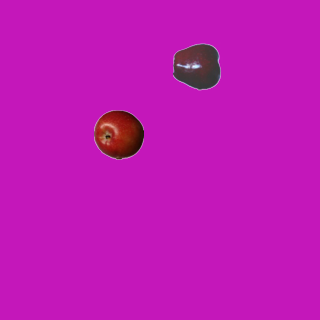Apple Braeburn: (93, 109, 143, 159)
Apple Red Delicious: (172, 41, 222, 91)
